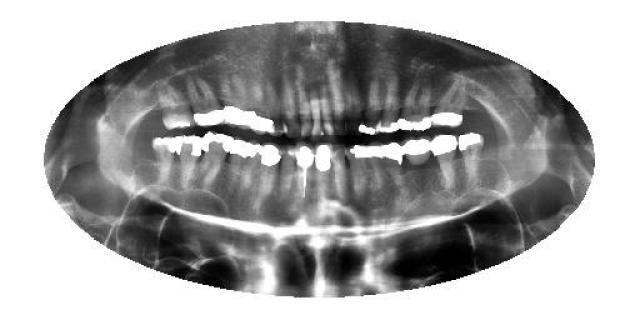Fillings: (396, 80, 432, 131), (219, 72, 249, 132), (432, 80, 468, 129), (189, 74, 221, 126), (456, 132, 485, 186), (202, 134, 232, 186), (375, 76, 401, 134), (432, 134, 458, 190), (356, 78, 380, 138), (174, 135, 202, 186), (400, 139, 432, 180), (149, 138, 175, 186), (249, 79, 269, 139), (344, 144, 366, 198), (378, 141, 402, 190), (232, 141, 252, 194), (314, 142, 331, 198), (261, 145, 280, 193), (366, 144, 380, 186)
Implant: (294, 142, 314, 200)
